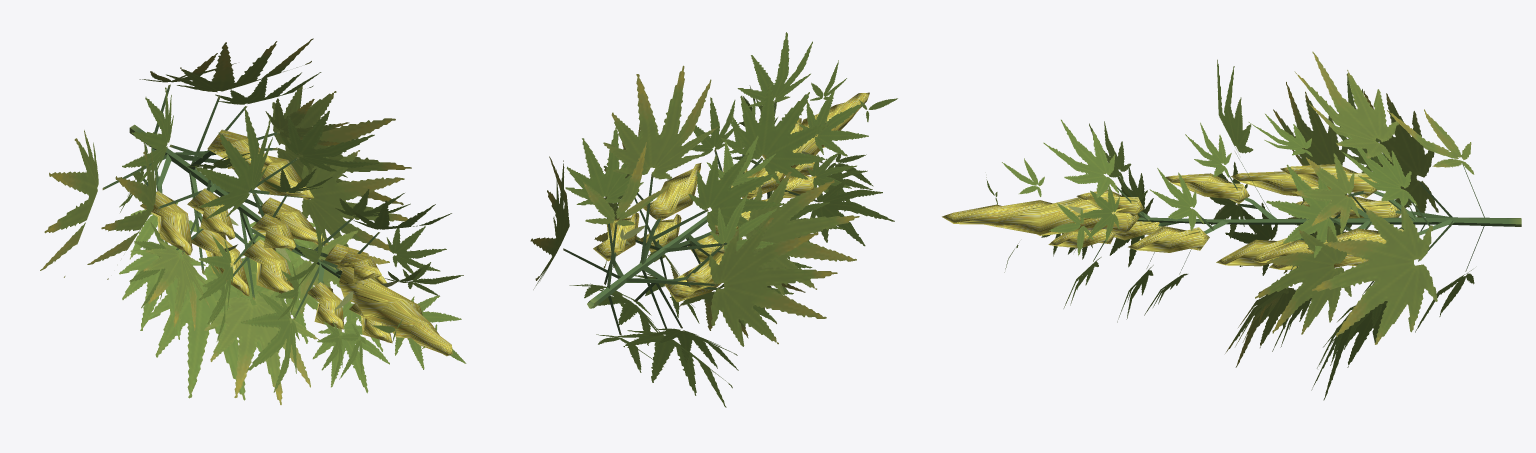
The model's file is p_gold_landrace_ripe_c0_cards.obj.
3 views of the same model, side by side, from view 1: azimuth 30°, elevation 25°; view 2: azimuth 150°, elevation 25°; view 3: azimuth 270°, elevation 25° (orthographic). The views are drawn at different scales.
Size of the model in its own units: 1.59 by 1.56 by 2.13.
Materials: 1 (1 with a texture image).
